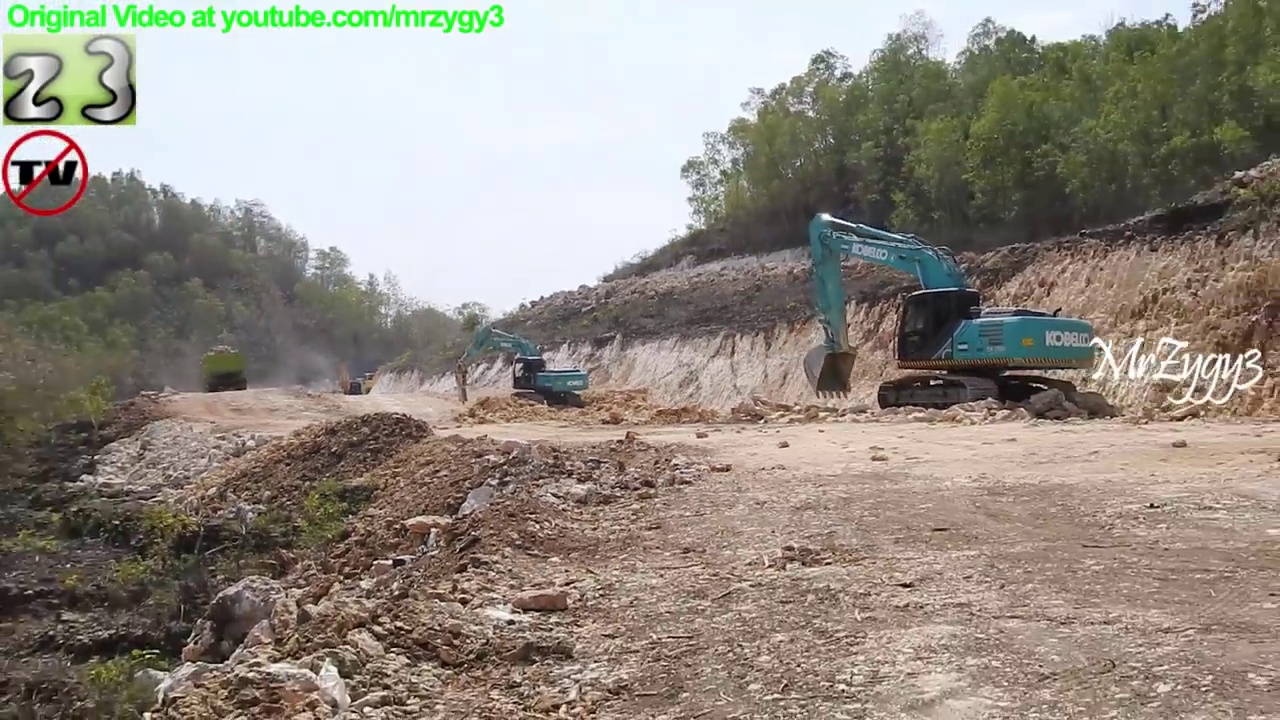excavator: (793, 205, 1105, 419), (354, 361, 395, 398), (336, 358, 367, 399)
excavator breaker: (450, 323, 593, 412)
truck: (195, 341, 253, 396)
